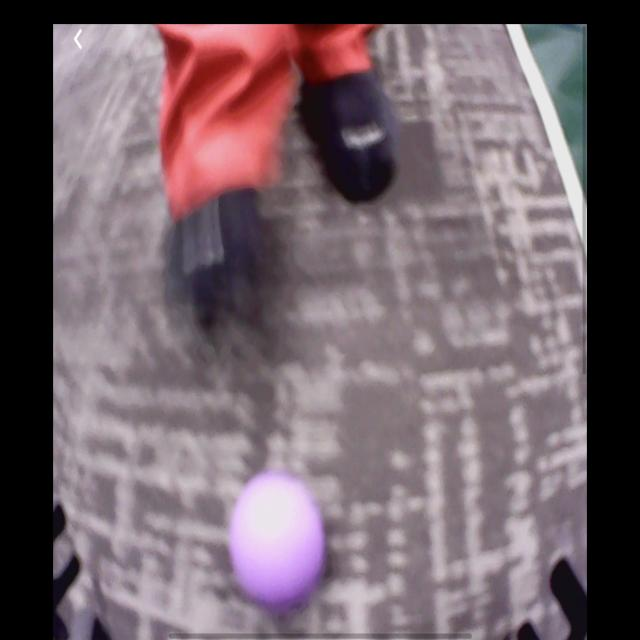ball: (233, 474, 324, 613)
